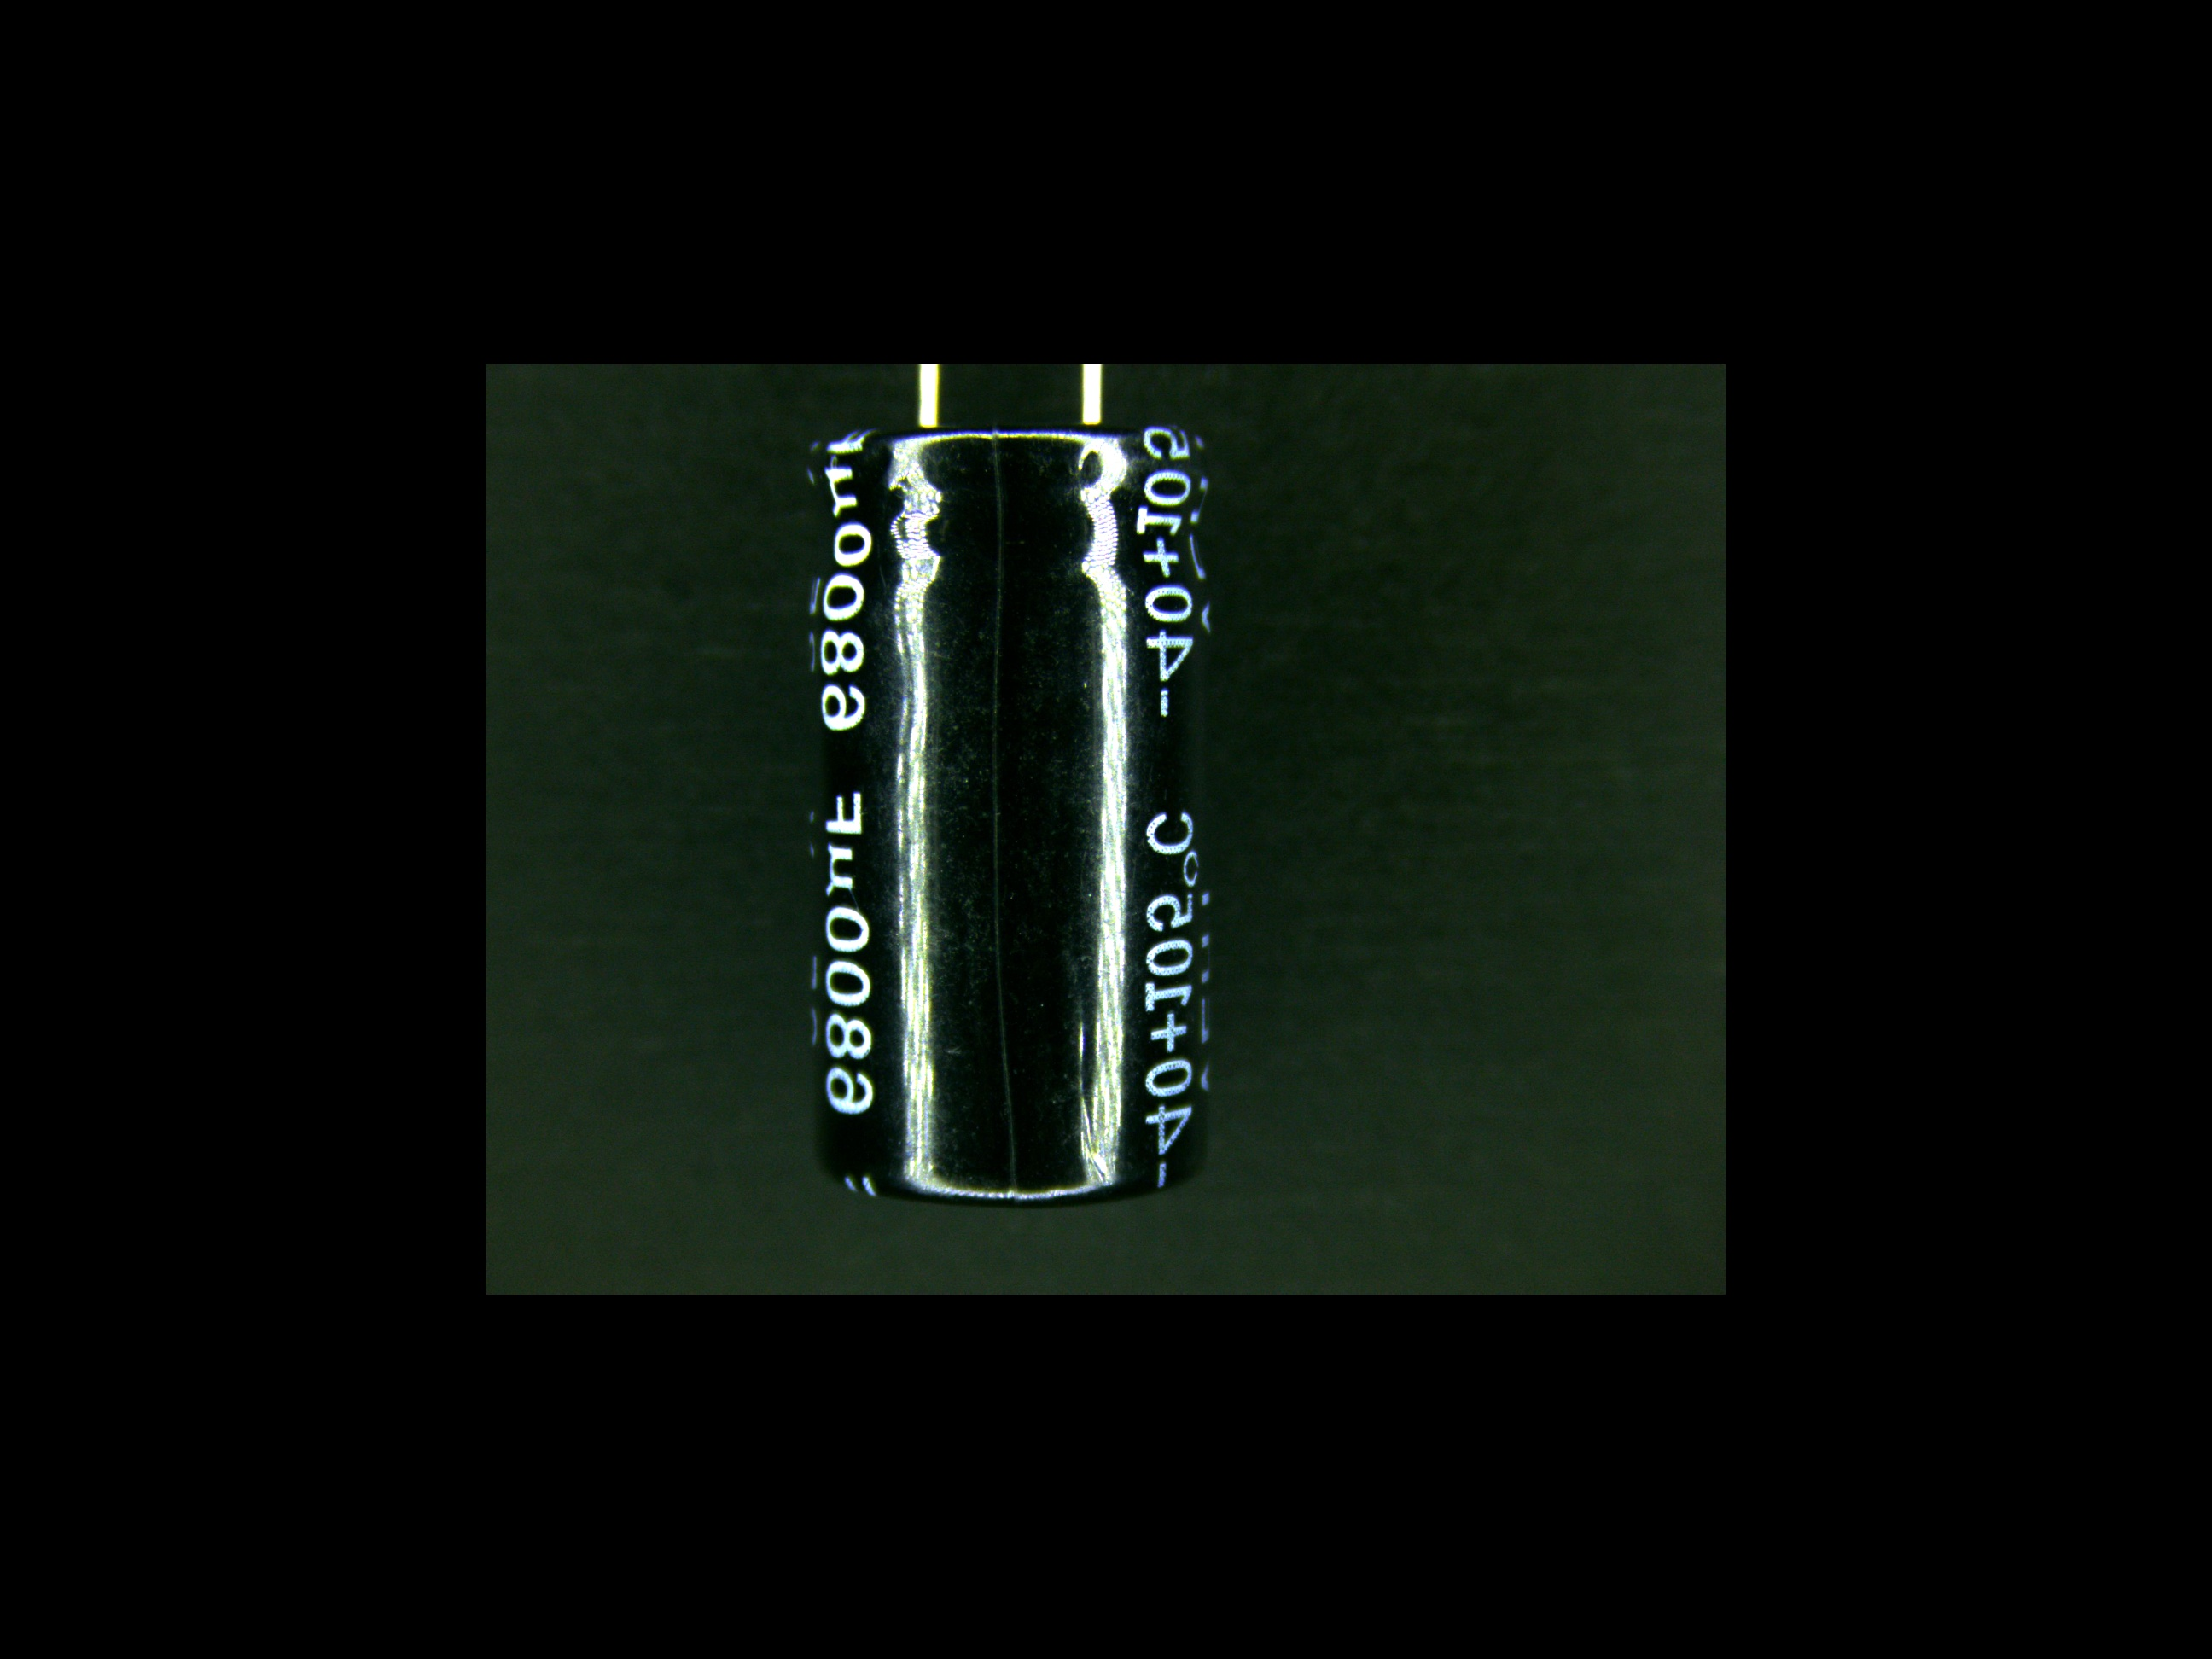c3: (803, 378, 1217, 1206)
